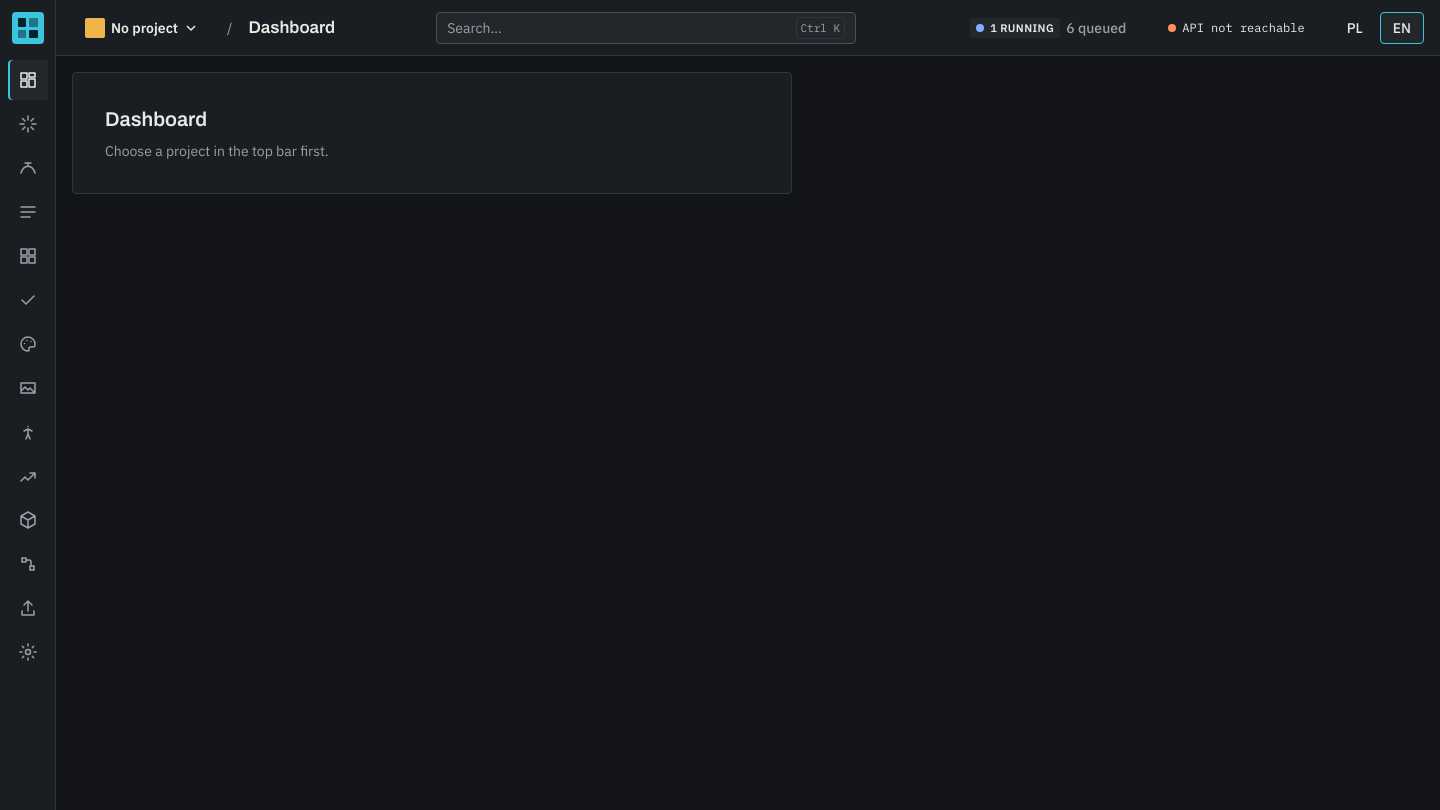
Test case: app shell › selects a project in the switcher
The image size is (1440, 810).
Click the button with aria-label "Switch project".
click(142, 28)  # box [72,12,211,44]
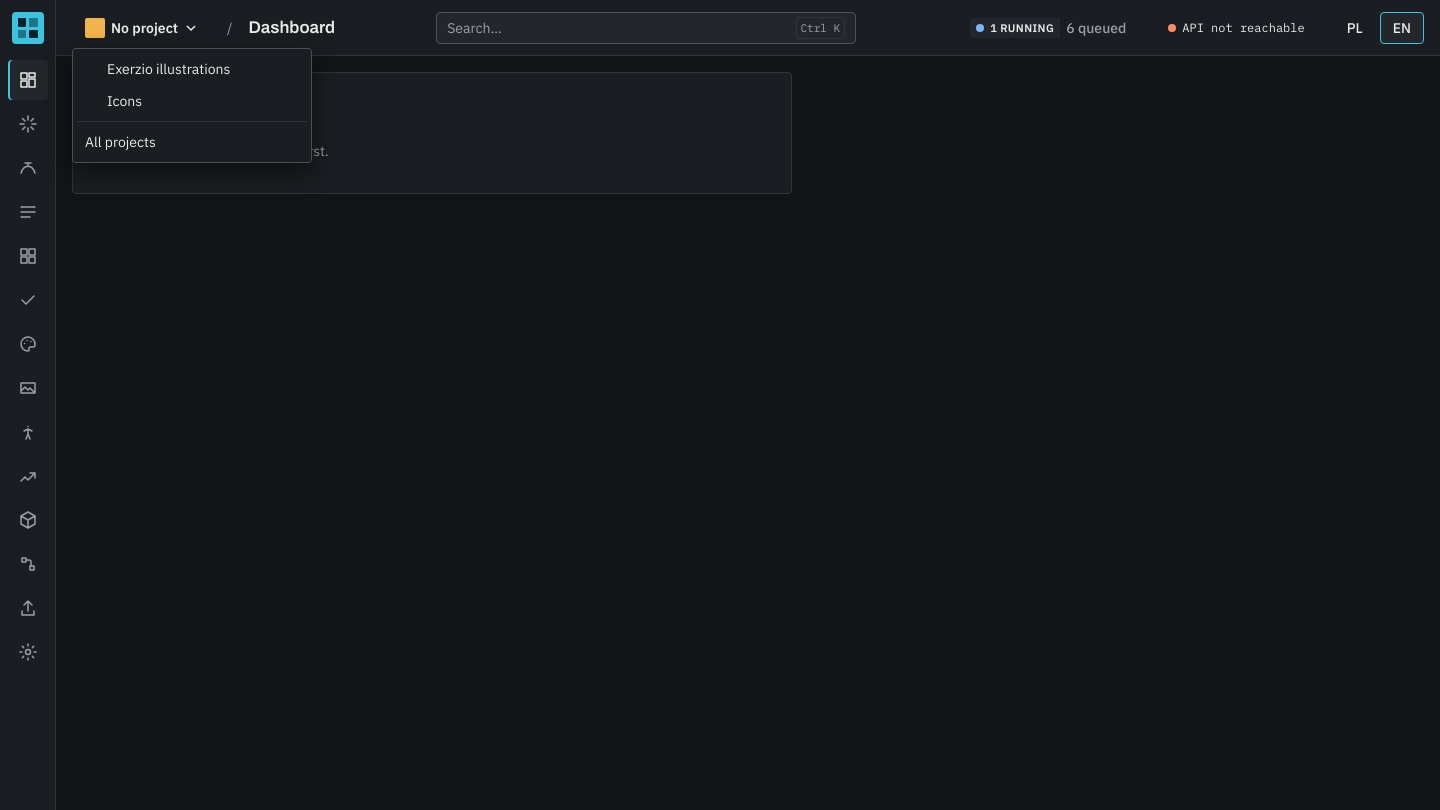
Click the menu item "Icons".
click(125, 101)  # box [107,92,142,110]
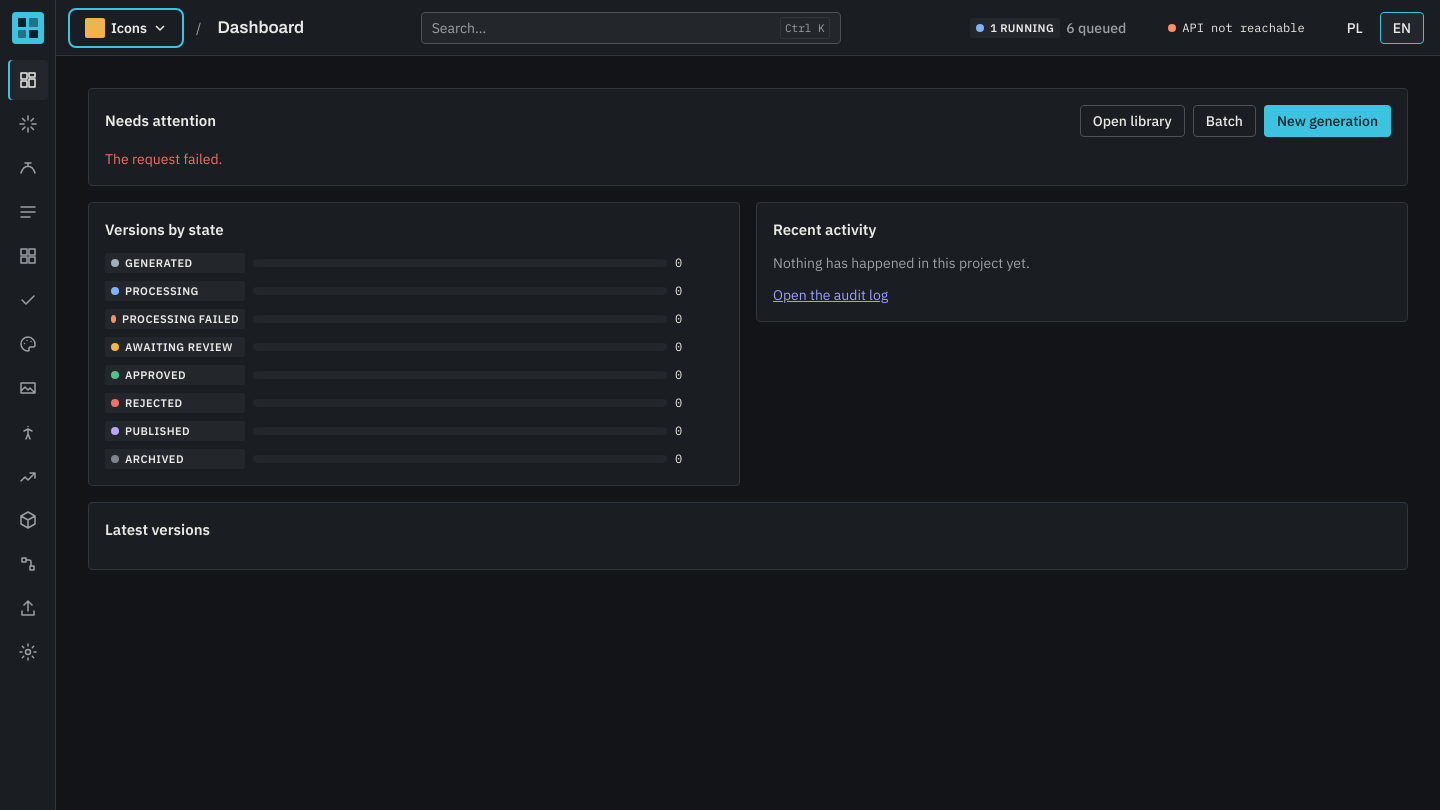
expect the text "Icons" is shown: met, box [111,18,147,38]
